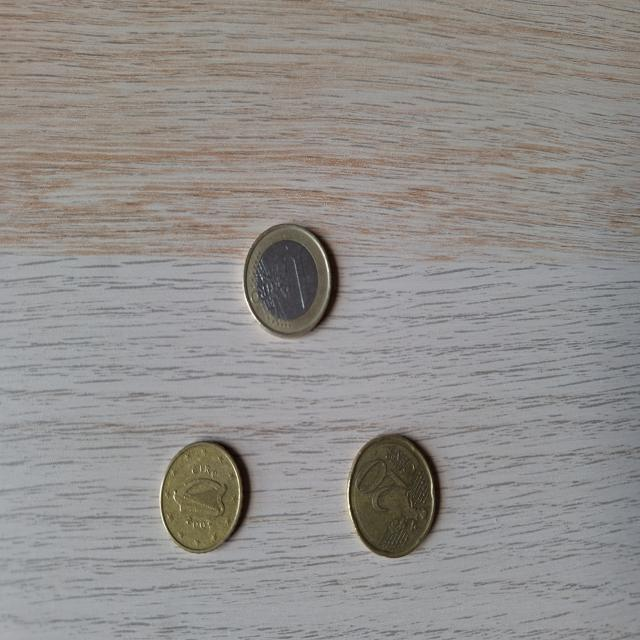10c: (152, 429, 253, 566)
1e: (240, 212, 340, 348)
20c: (340, 422, 447, 569)
